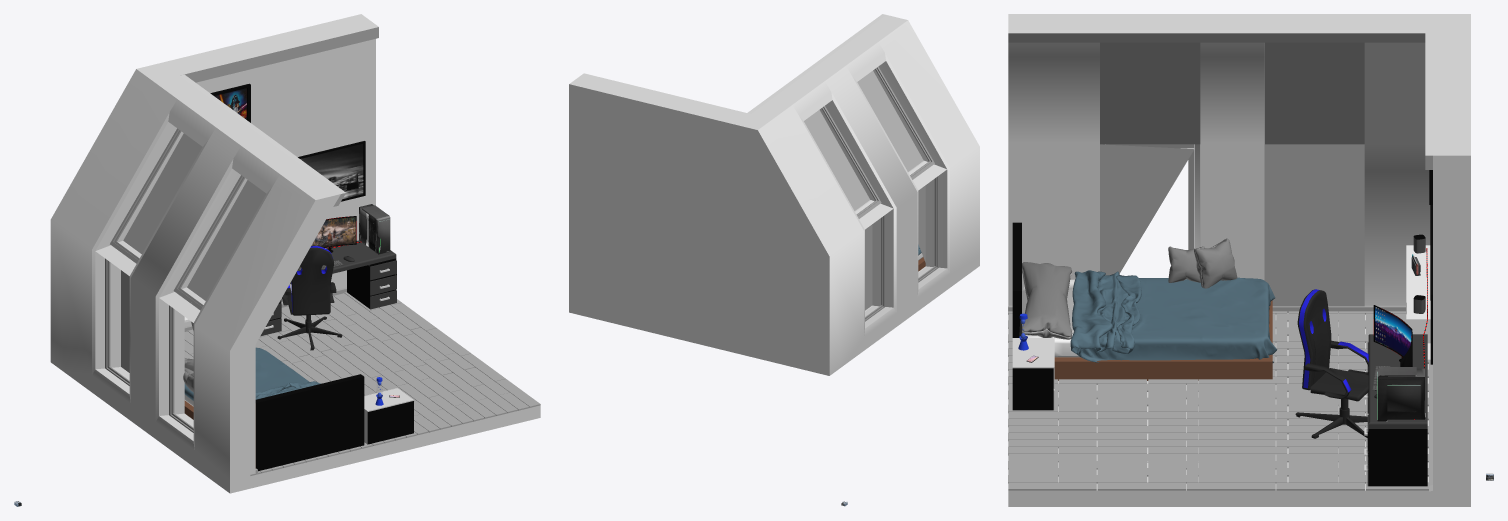
The model's file is interiores.glb.
3 views of the same model, side by side, from view 1: azimuth 30°, elevation 25°; view 2: azimuth 150°, elevation 25°; view 3: azimuth 270°, elevation 25° (orthographic). The views are drawn at different scales.
Parts seen in each view (by area): view 1: cuarto, cuarto.001, cuarto.002, cama, escritorio, silla, cuadro, Cube.001, Plane, torre, pantalla1.001, Cube.007 (+4 smaller); view 2: cuarto, Cube.006, Cube.007, Cube, Cube.005; view 3: cuarto, cuarto.001, cuarto.002, Plane, escritorio, cama, silla, almohada.001, Cube.001, torre, estante, almohada (+4 smaller).
Boxes of the visible parts, left/top/right/bottom form: cuarto: left=50, top=14, right=540, bottom=493; cuarto.001: left=184, top=292, right=540, bottom=473; cuarto.002: left=184, top=293, right=529, bottom=475; cama: left=184, top=374, right=364, bottom=471; escritorio: left=260, top=240, right=396, bottom=336; silla: left=277, top=246, right=342, bottom=350; cuadro: left=298, top=141, right=365, bottom=201; Cube.001: left=364, top=388, right=413, bottom=444; Plane: left=184, top=347, right=320, bottom=400; torre: left=359, top=204, right=390, bottom=254; pantalla1.001: left=311, top=216, right=356, bottom=252; Cube.007: left=173, top=175, right=244, bottom=310; cuarto: left=569, top=14, right=979, bottom=375; Cube.006: left=821, top=106, right=881, bottom=218; Cube.007: left=875, top=66, right=934, bottom=179; Cube: left=865, top=215, right=885, bottom=321; Cube.005: left=918, top=176, right=938, bottom=282; cuarto: left=1008, top=14, right=1470, bottom=506; cuarto.001: left=1008, top=313, right=1428, bottom=490; cuarto.002: left=1008, top=306, right=1406, bottom=483; Plane: left=1070, top=270, right=1277, bottom=362; escritorio: left=1364, top=334, right=1427, bottom=486; cama: left=1012, top=222, right=1272, bottom=380; silla: left=1295, top=289, right=1368, bottom=438; almohada.001: left=1022, top=262, right=1072, bottom=339; Cube.001: left=1012, top=338, right=1054, bottom=410; torre: left=1377, top=367, right=1425, bottom=421; estante: left=1406, top=245, right=1430, bottom=343; almohada: left=1194, top=238, right=1237, bottom=288.
Bounding box in the file's own units: 996 × 1165 × 957.
Materials: 83 (45 with a texture image).
